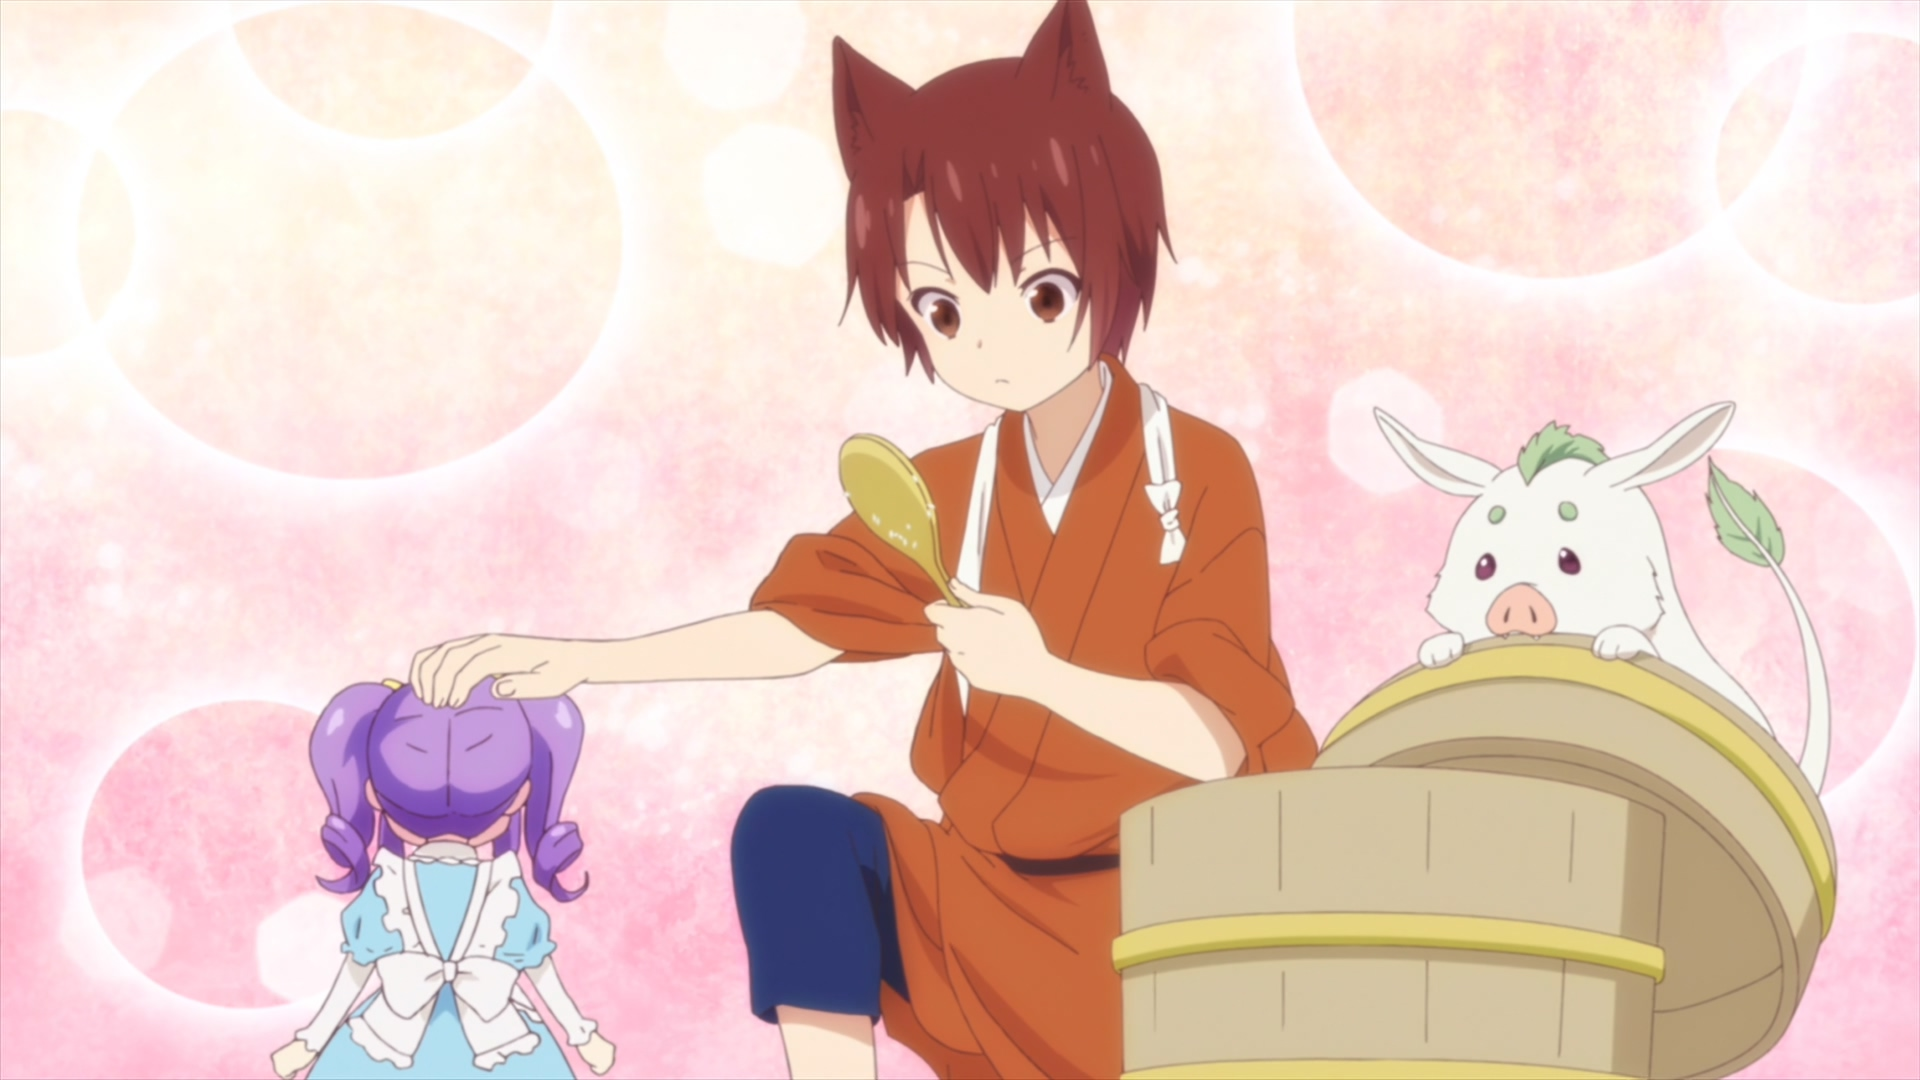枣: (411, 1, 1315, 1080)
瓜之介: (1375, 400, 1832, 800)
阿菊: (272, 673, 615, 1080)
